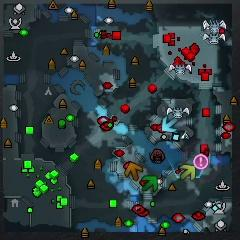Other: (194, 154, 209, 169)
x2: (178, 164, 196, 181)
x3: (160, 116, 180, 133)
x4: (140, 174, 158, 192)
x5: (124, 162, 143, 182)
